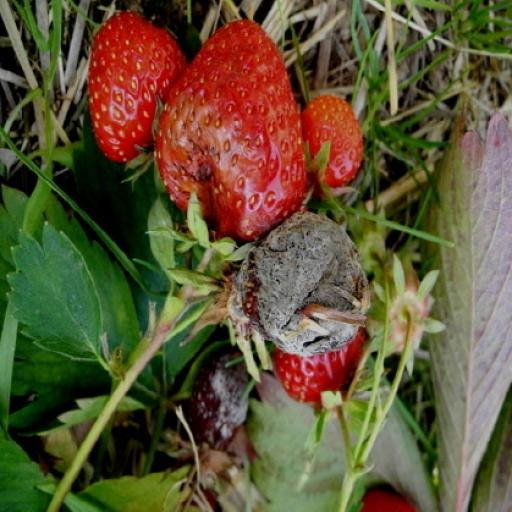Gray Mold: (187, 155, 370, 302), (198, 63, 252, 157)
